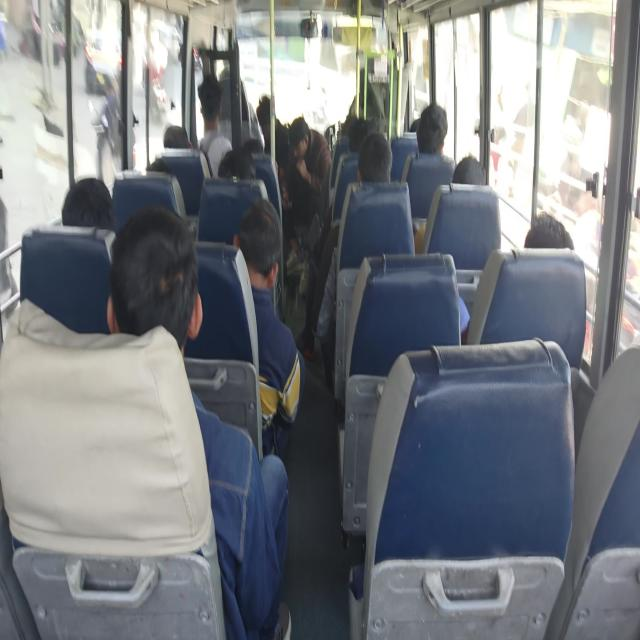person: (126, 209, 204, 330), (239, 198, 285, 268), (219, 142, 265, 186), (522, 219, 574, 256), (66, 188, 114, 226), (451, 150, 501, 180), (419, 105, 451, 150), (145, 142, 175, 188), (362, 146, 393, 190), (259, 99, 284, 133), (221, 42, 245, 74), (349, 116, 371, 148), (192, 78, 216, 106), (288, 115, 306, 150), (162, 125, 186, 146)
